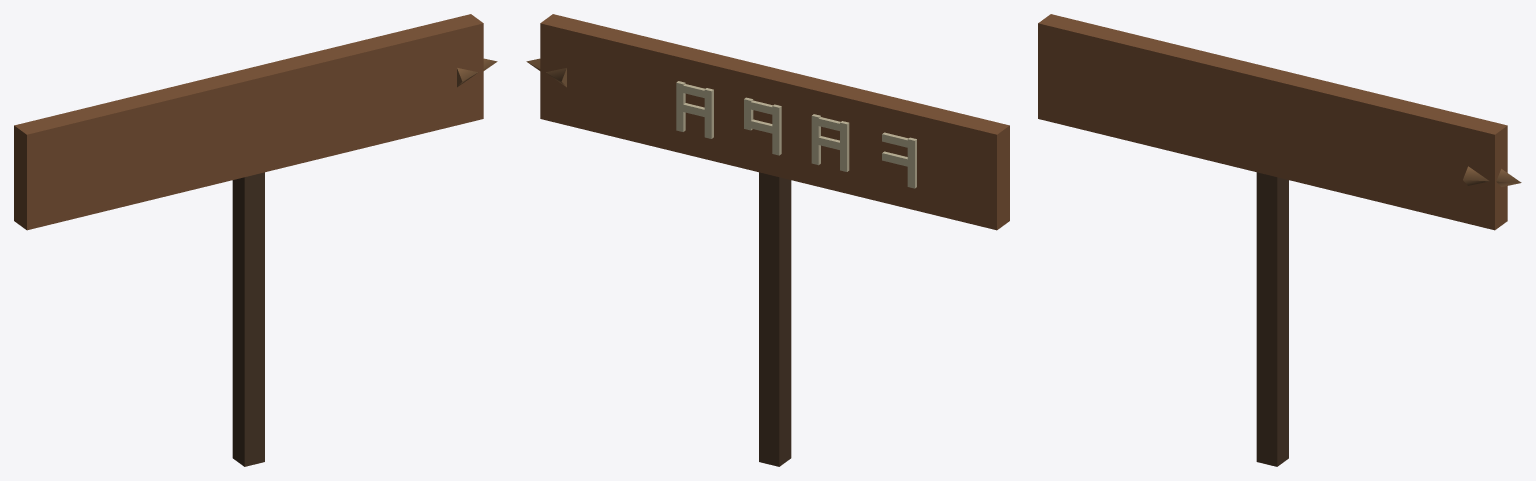
Rendered from sign_farm.glb.
3 renders of one model, left to right at view 1: azimuth 30°, elevation 25°; view 2: azimuth 150°, elevation 25°; view 3: azimuth 330°, elevation 25°, orthographic.
Visible parts, largest first — view 1: sign_farm_LOD0; view 2: sign_farm_LOD0; view 3: sign_farm_LOD0.
Boxes of the visible parts, box(x1,y1,x2,y2) form: sign_farm_LOD0: box(14, 14, 497, 466); sign_farm_LOD0: box(526, 14, 1009, 466); sign_farm_LOD0: box(1038, 14, 1521, 466).
Size of what is drawn, in the model's own units: 3.03 by 2.34 by 0.26.
